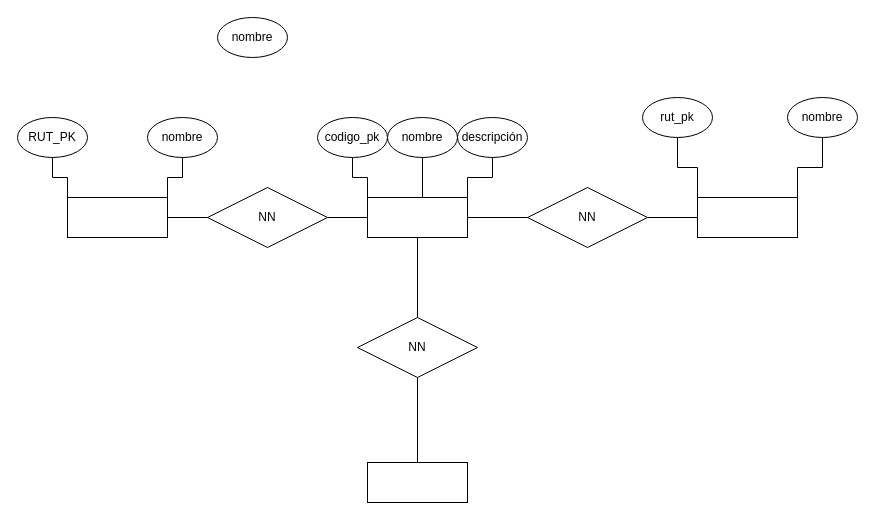
Image size: 875x520. Some labels were removed from this diagram. Here are the shapes that lost their labels. From the top down, the centre of each, then its label:
pixel 117 217: farmacia
pixel 417 217: remedio
pixel 747 217: laboratorio
pixel 417 482: tipo
